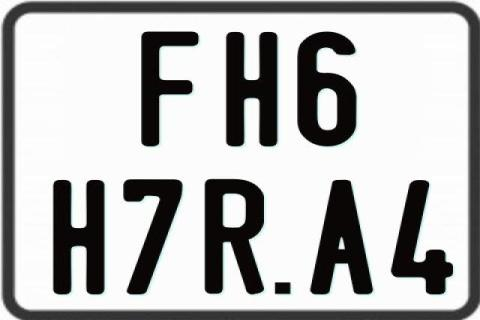0: (391, 178, 458, 296), (294, 32, 356, 148), (122, 179, 181, 299)
A: (307, 178, 374, 292)
F: (140, 30, 202, 148)
H: (53, 179, 110, 297), (224, 30, 280, 148)
R: (202, 179, 261, 295)
